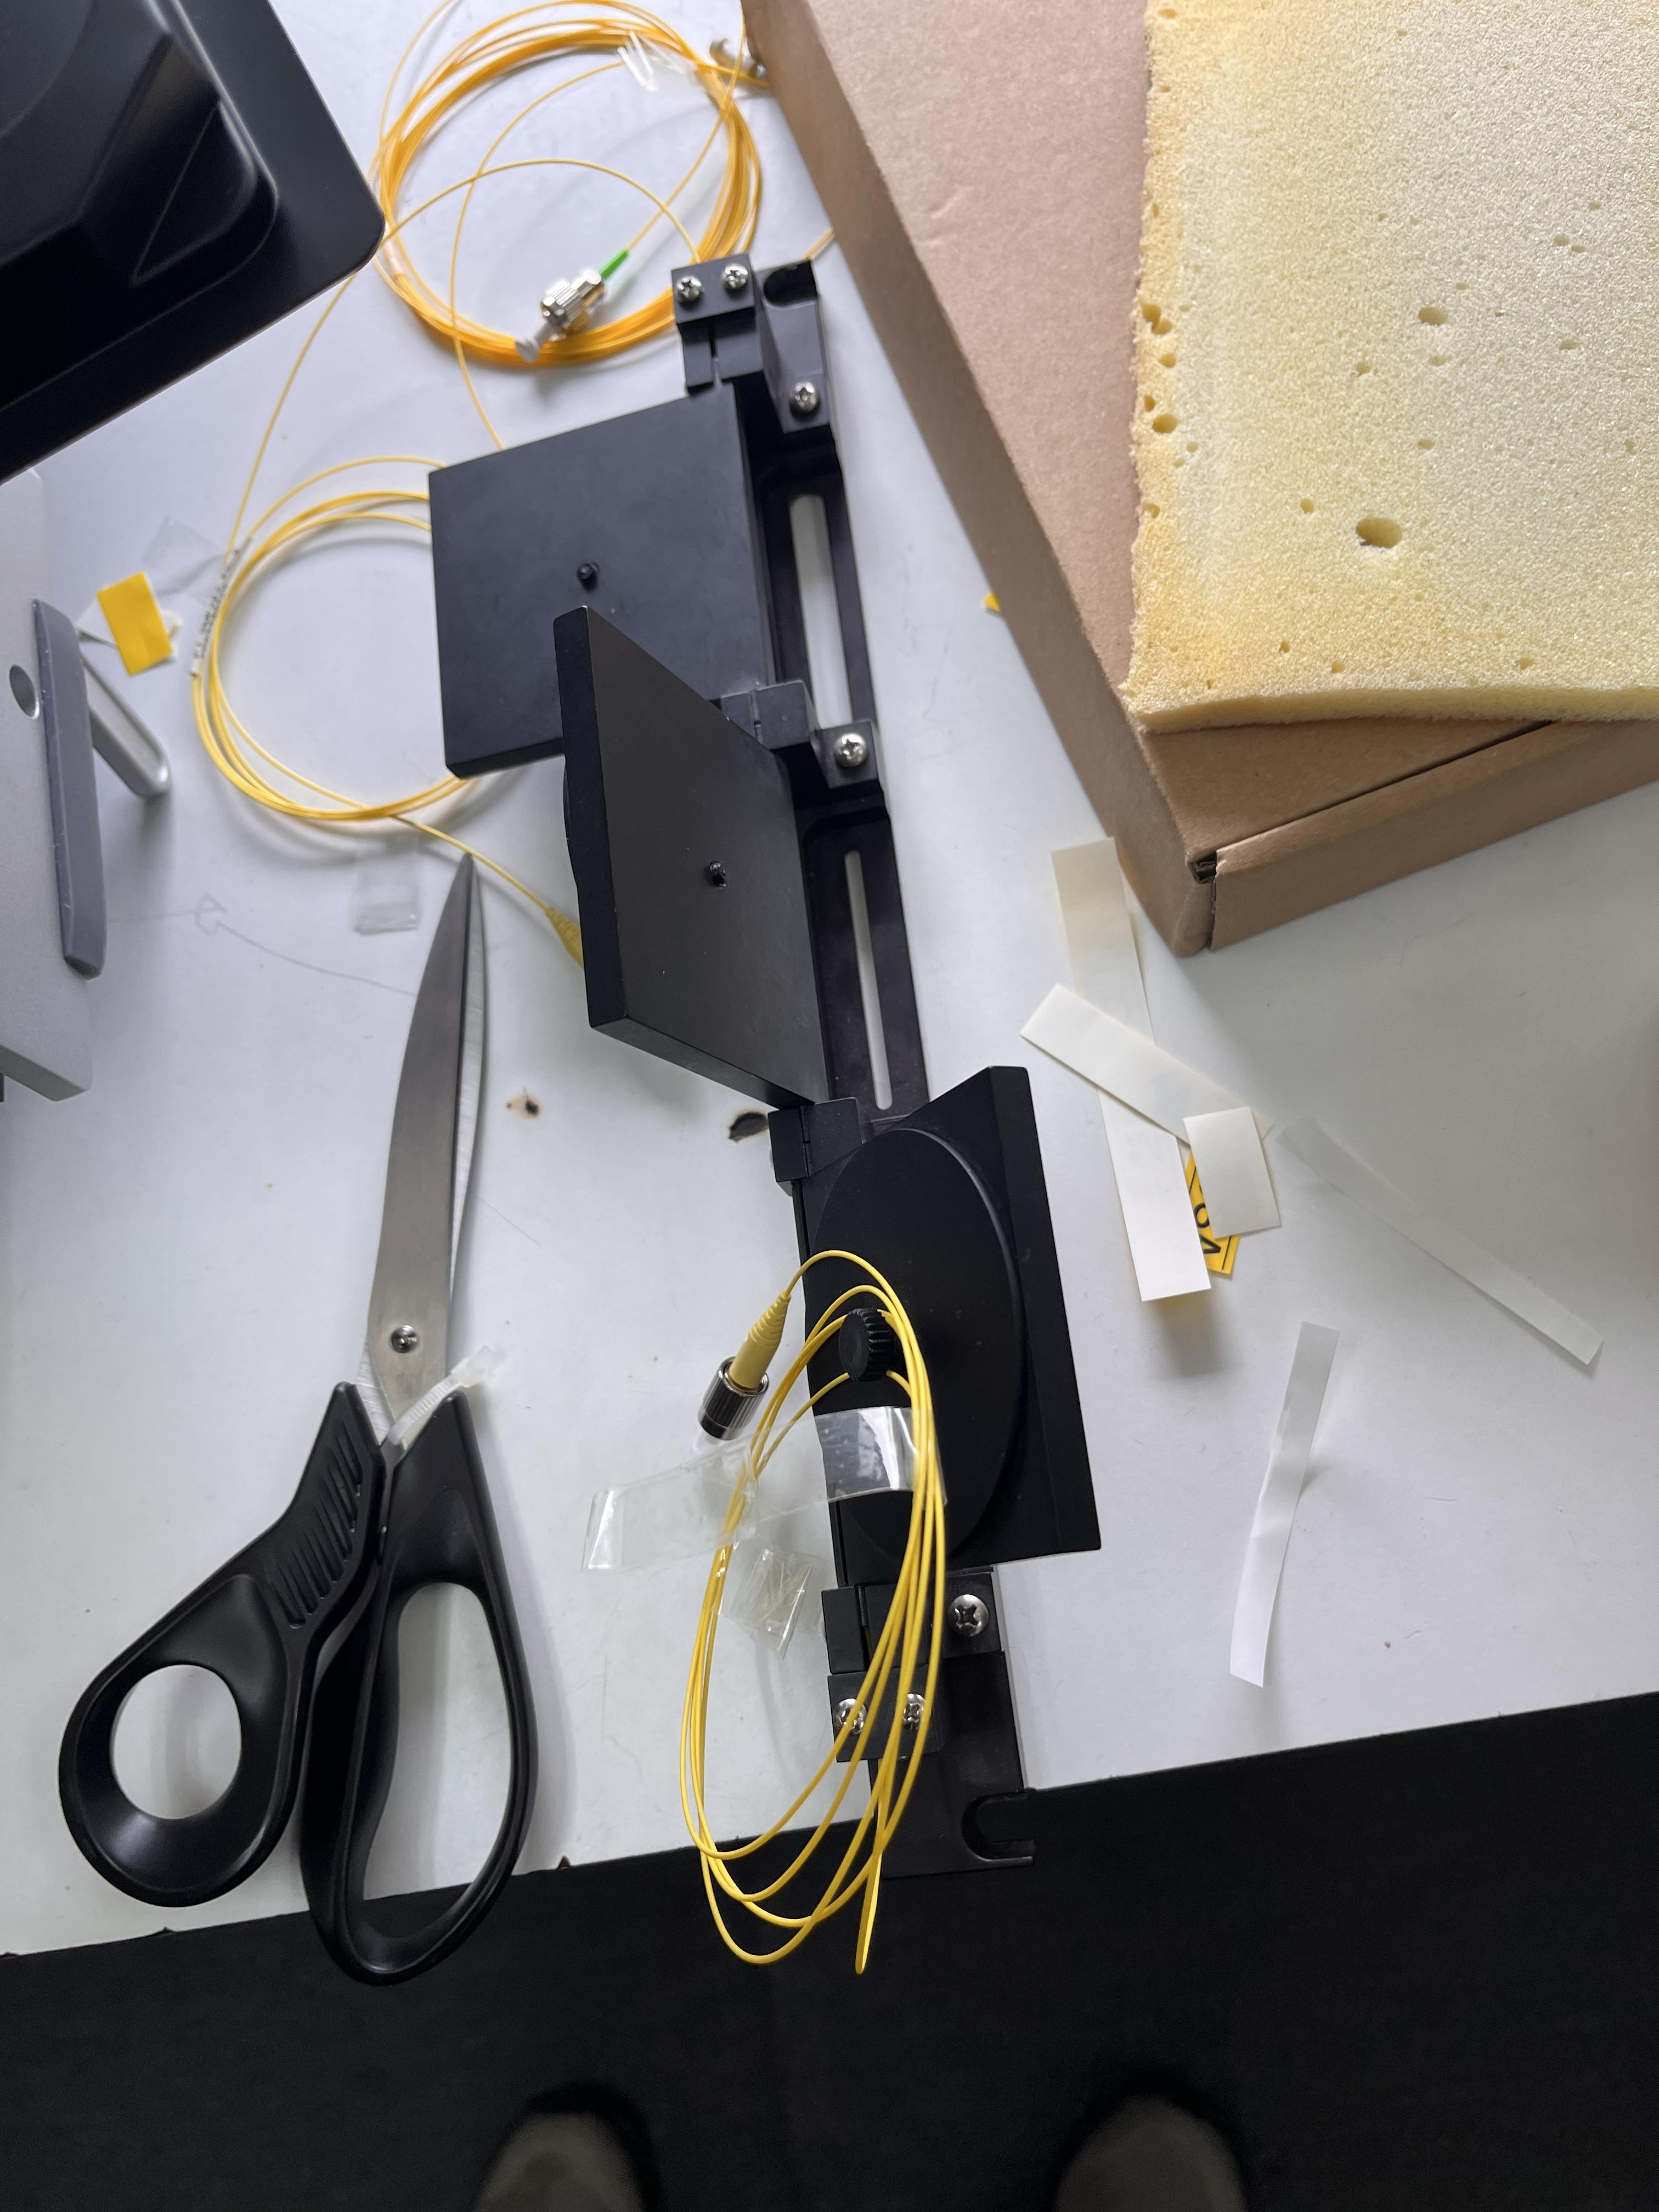paddle_polarization_controller: (425, 253, 1098, 1885)
